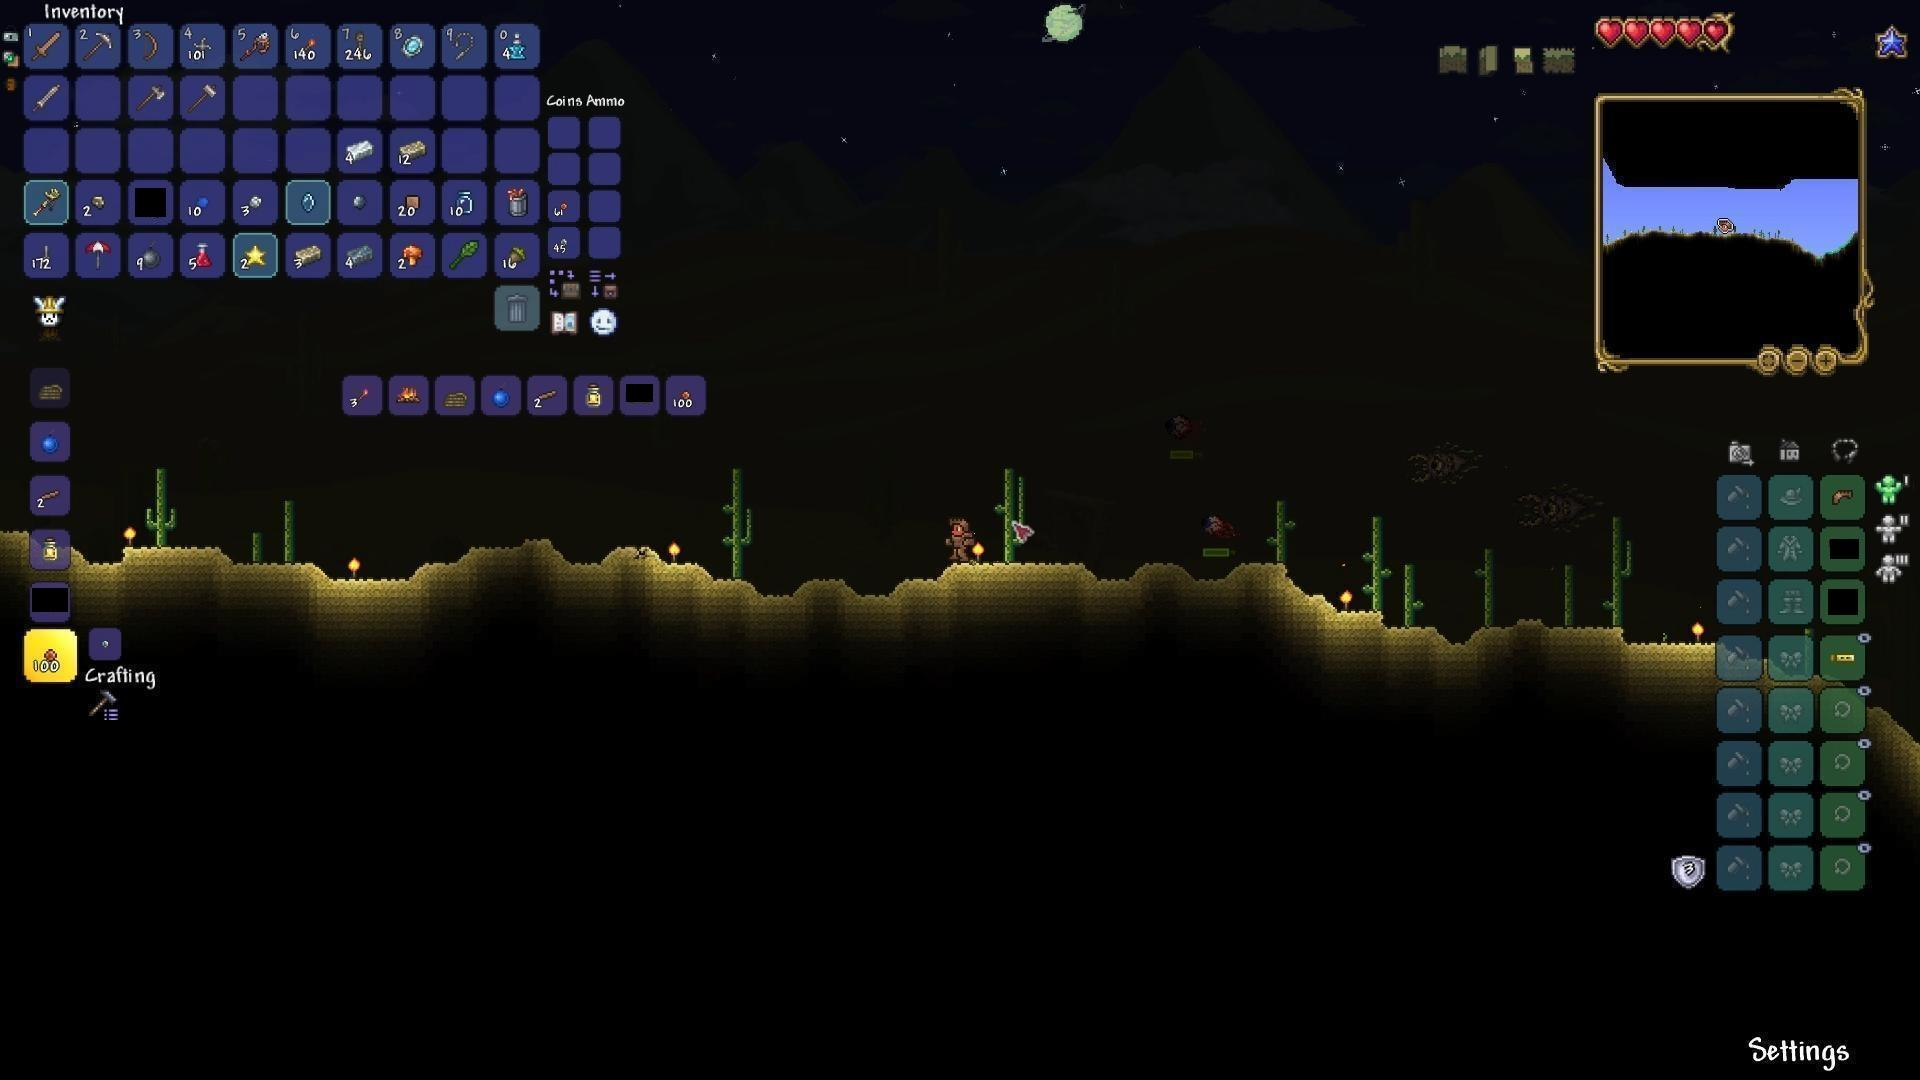helmet: (1832, 488, 1855, 506)
